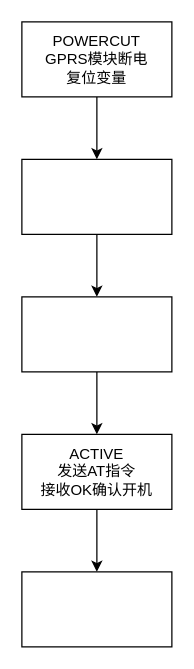
This 194x669 diagram has some shape labels left out. Here are the shapes that lost their labels. From the top down, the centre of each, then its label:
At point 96,196: "POWERON 延时1S后模块上电 PWR拉低2秒后拉高".
At point 96,334: "BOOT 启动，等待6秒".
